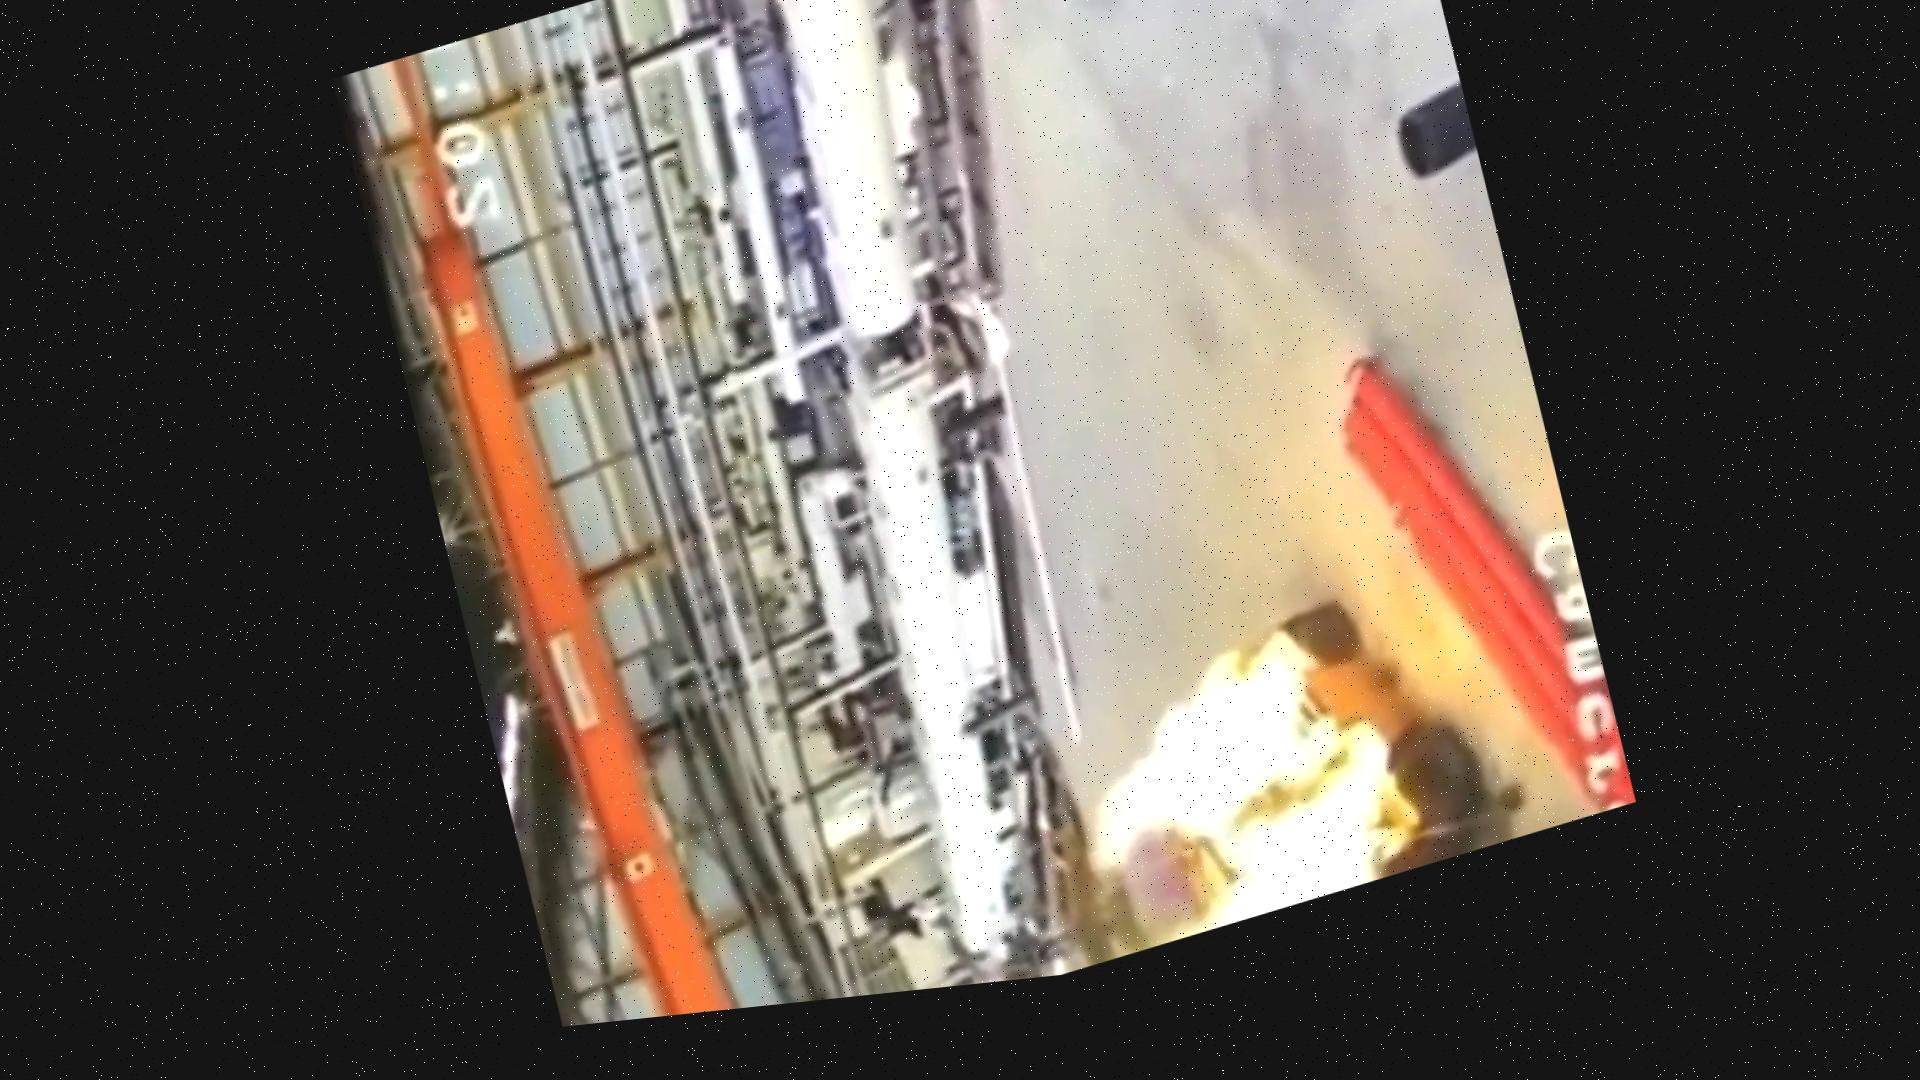fire: (1026, 564, 1444, 975)
